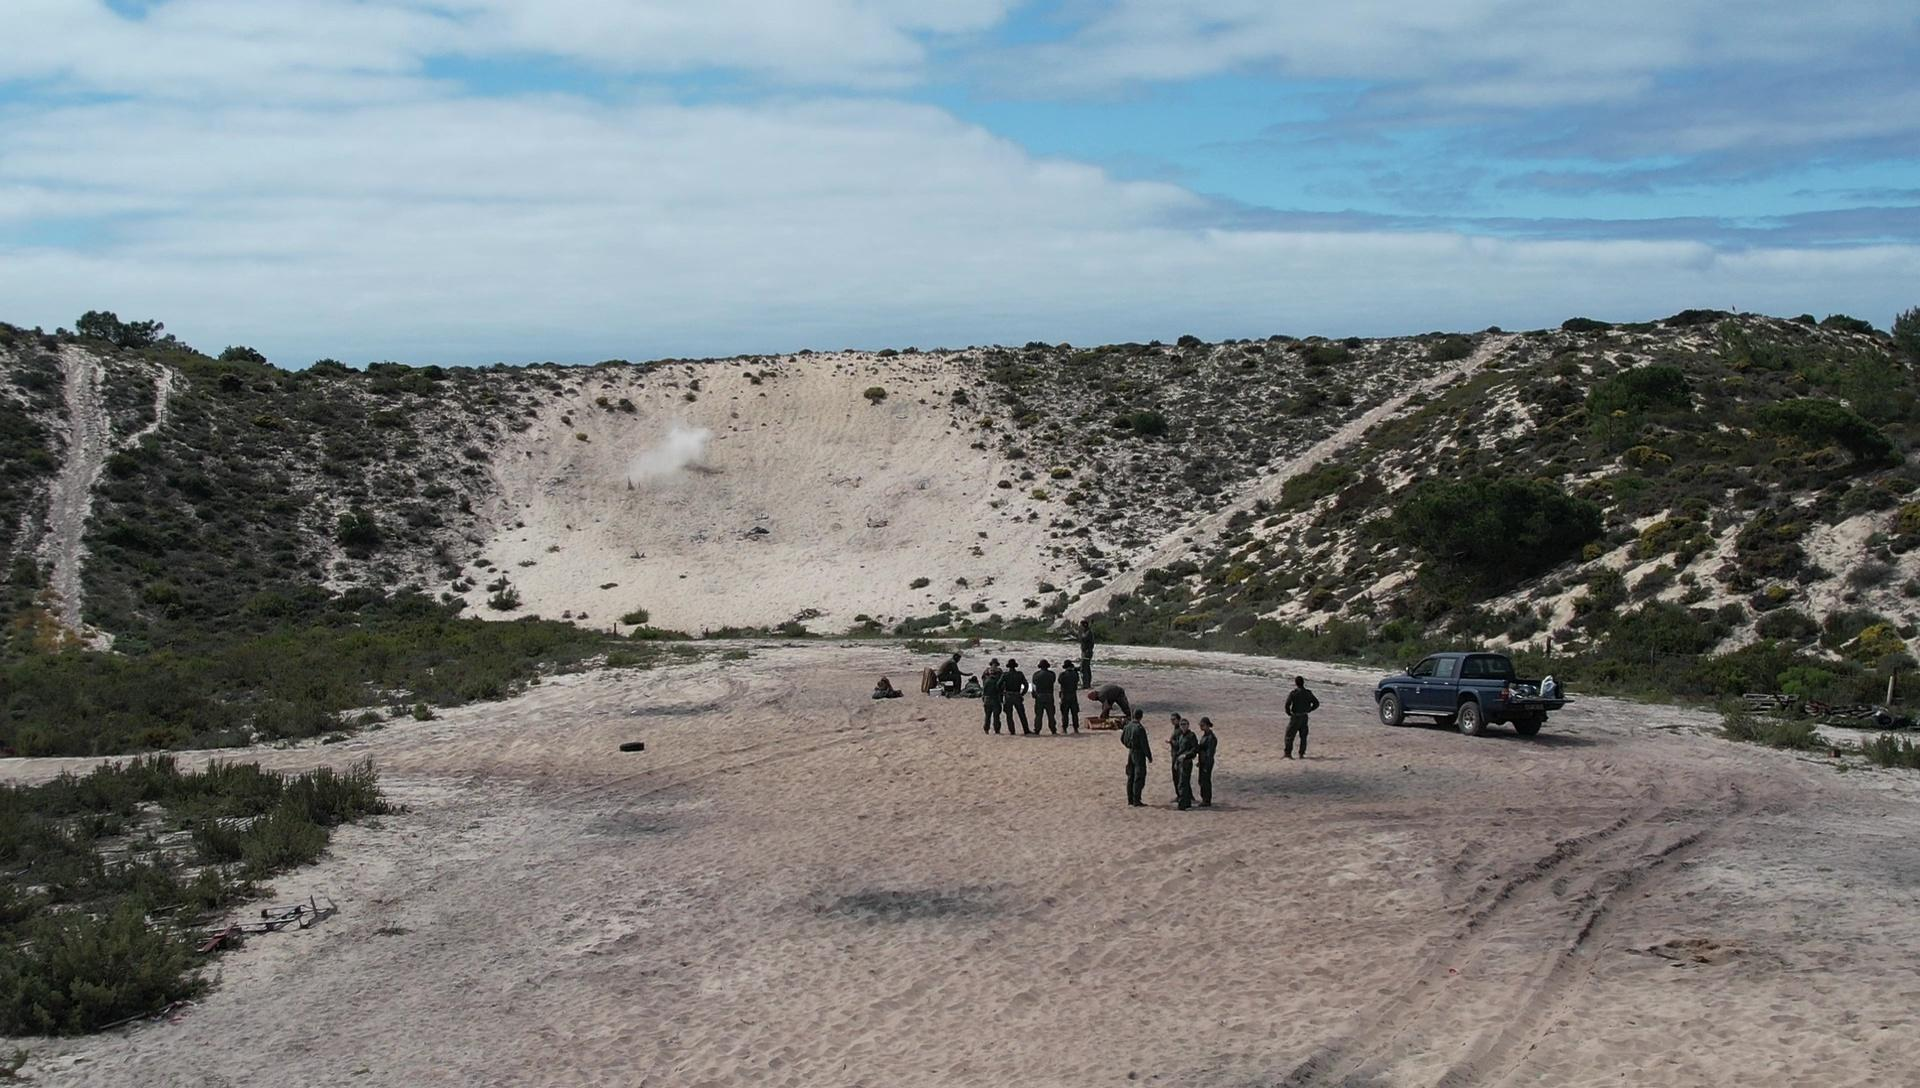Soldier: (1274, 669, 1328, 765), (1121, 702, 1154, 824), (1029, 648, 1065, 746), (1170, 712, 1201, 818), (1193, 713, 1221, 818), (1000, 655, 1030, 746), (1056, 650, 1087, 741), (1076, 609, 1110, 688), (982, 657, 1011, 739), (932, 644, 969, 704)
